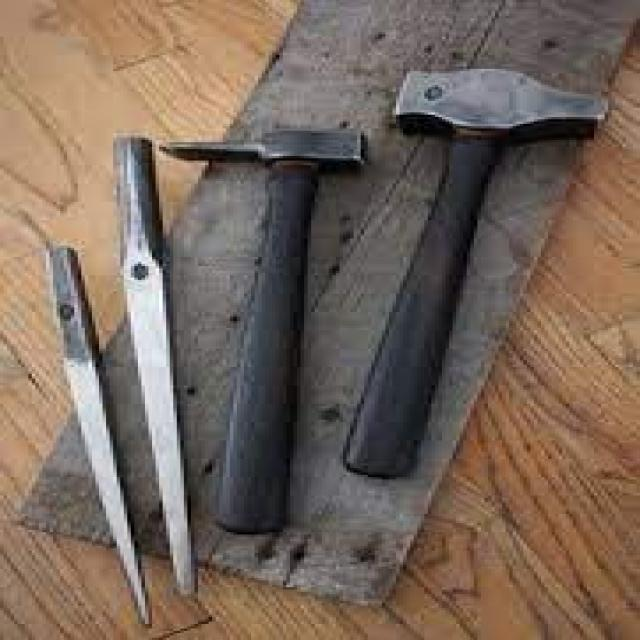hammer: (329, 59, 619, 484), (147, 104, 380, 542)
